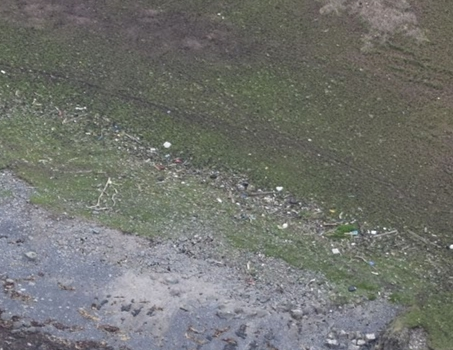together_barrel: (131, 131, 254, 200), (267, 182, 369, 259)
